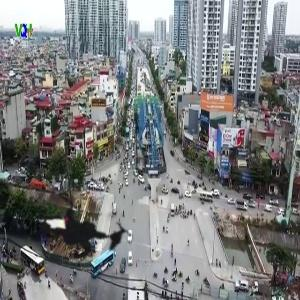drone: (16, 156, 155, 295)
